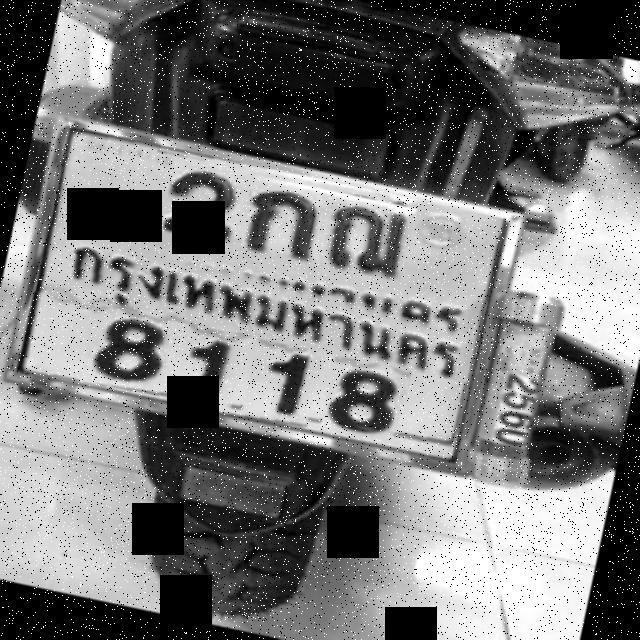letters: (137, 150, 250, 264), (316, 191, 416, 296), (78, 301, 184, 400), (236, 174, 334, 277), (240, 332, 328, 434), (319, 352, 412, 446), (172, 317, 252, 417)
license-plate: (16, 126, 505, 452)
province: (48, 226, 480, 383)
